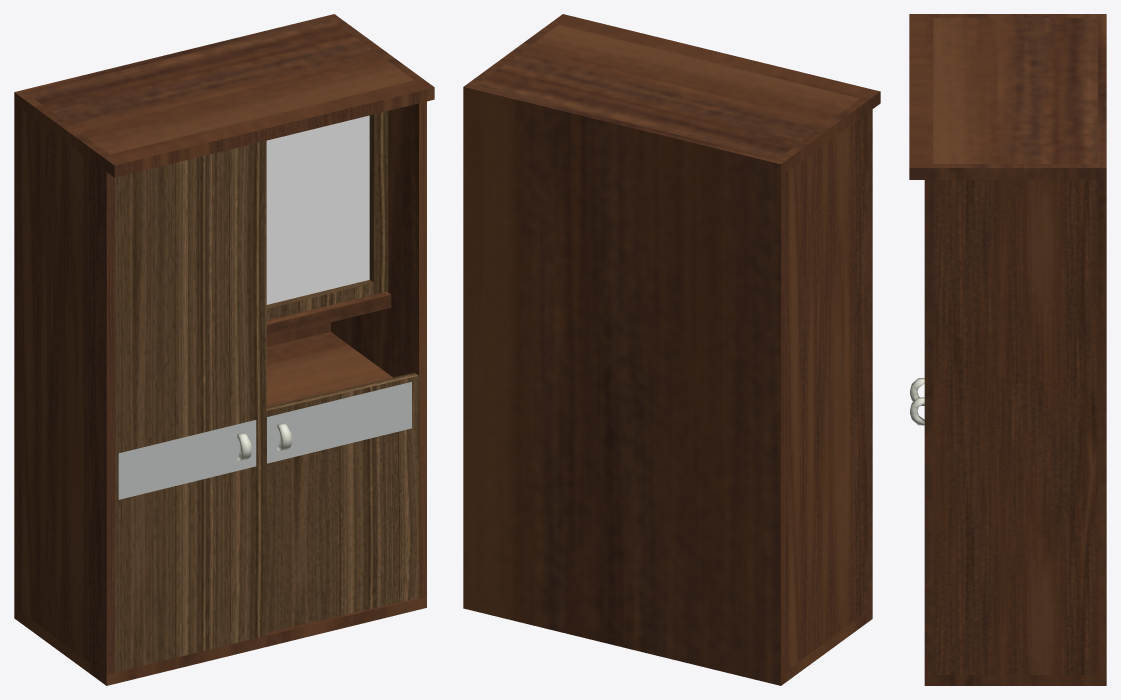
The model's file is lemari.glb.
3 views of the same model, side by side, from view 1: azimuth 30°, elevation 25°; view 2: azimuth 150°, elevation 25°; view 3: azimuth 270°, elevation 25° (orthographic).
Parts seen in each view (by area): view 1: almari_main, almari_door_long, almari_door_short, almari_door_mirror, Plane.003, Plane.002; view 2: almari_main; view 3: almari_main.
Boxes of the visible parts, x1,y1,x2,y2 form: almari_main: (14,14,434,685); almari_door_long: (114,140,266,672); almari_door_short: (266,372,418,632); almari_door_mirror: (266,111,388,320); Plane.003: (267,382,411,463); Plane.002: (118,420,256,499); almari_main: (463,14,880,685); almari_main: (909,14,1106,685).
Size of the model in its own units: 4 by 6.28 by 2.17.
Materials: 5 (2 with a texture image).
